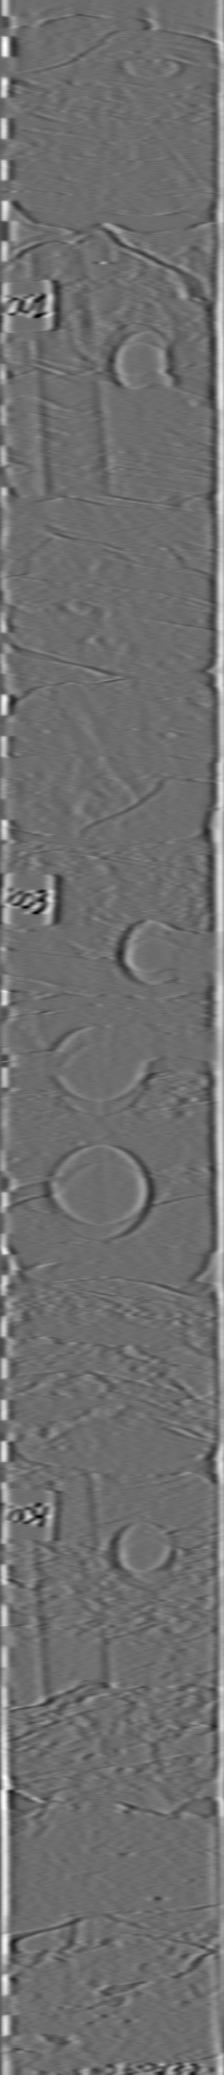hplug: (103, 1519, 182, 1593), (99, 316, 174, 393), (117, 912, 182, 989)
scal: (46, 1133, 155, 1244), (54, 1016, 155, 1121)
vplug: (32, 240, 110, 498), (27, 1465, 110, 1704)
